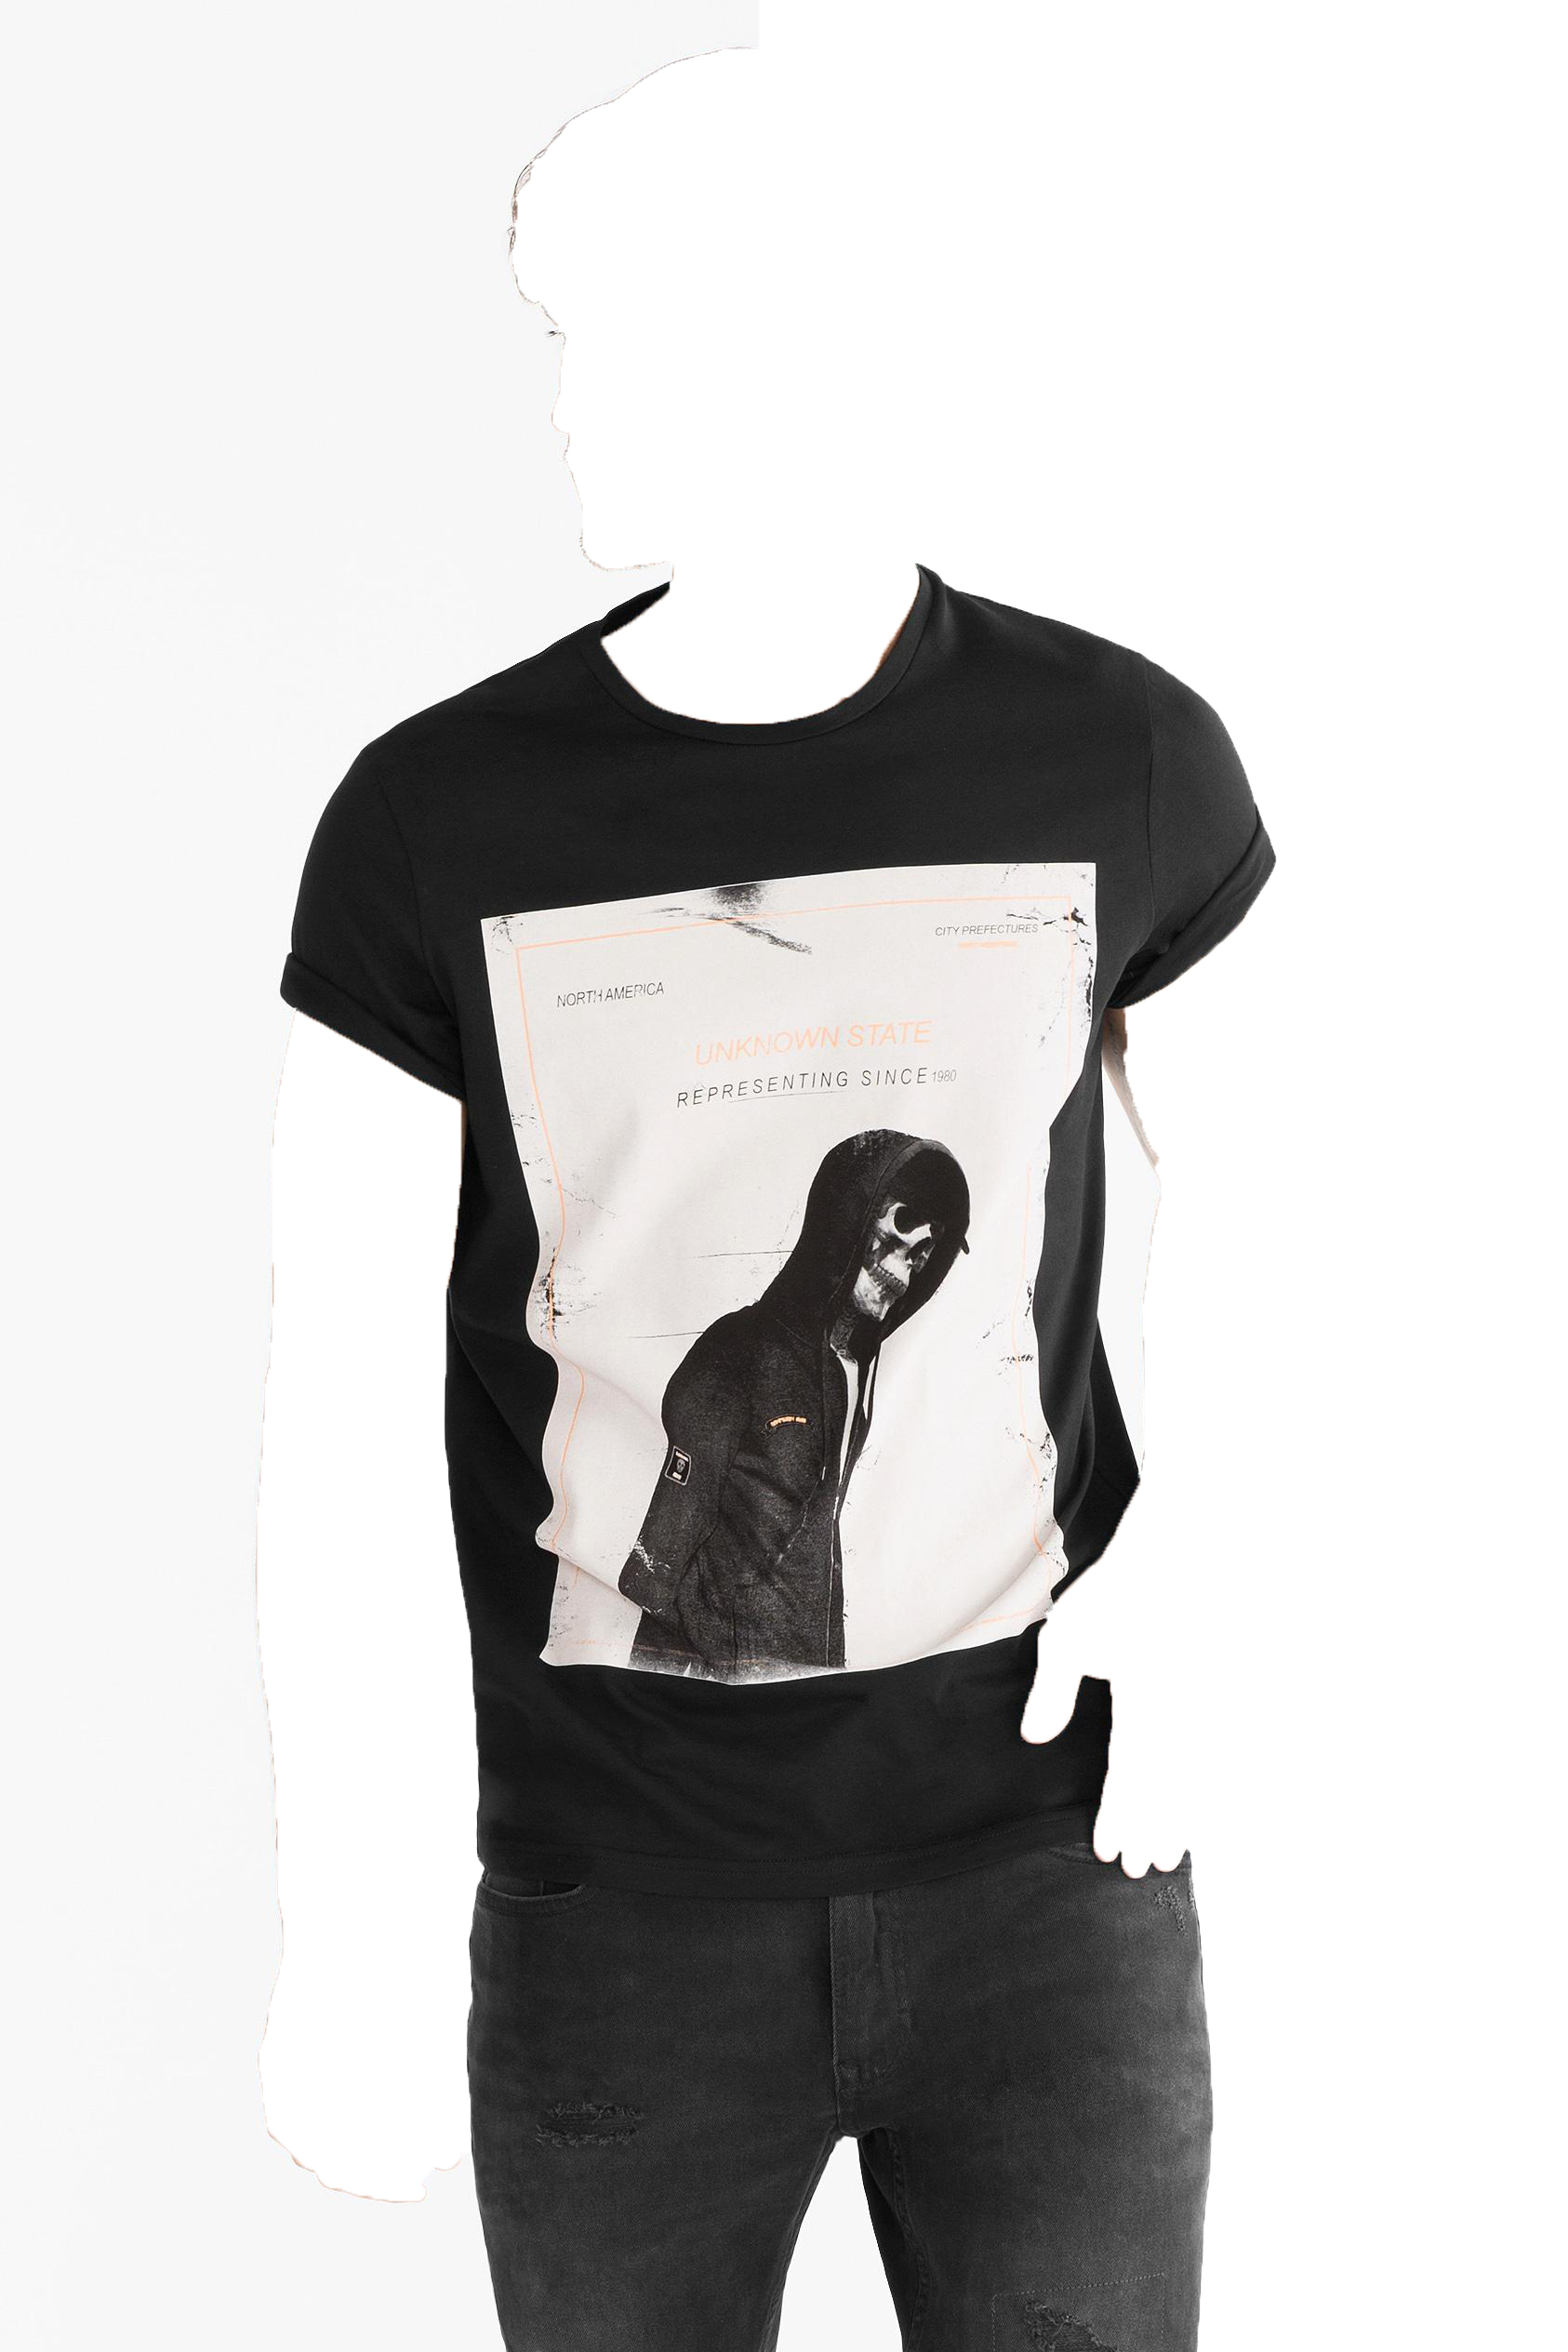teeshirt: (242, 579, 1344, 1890)
